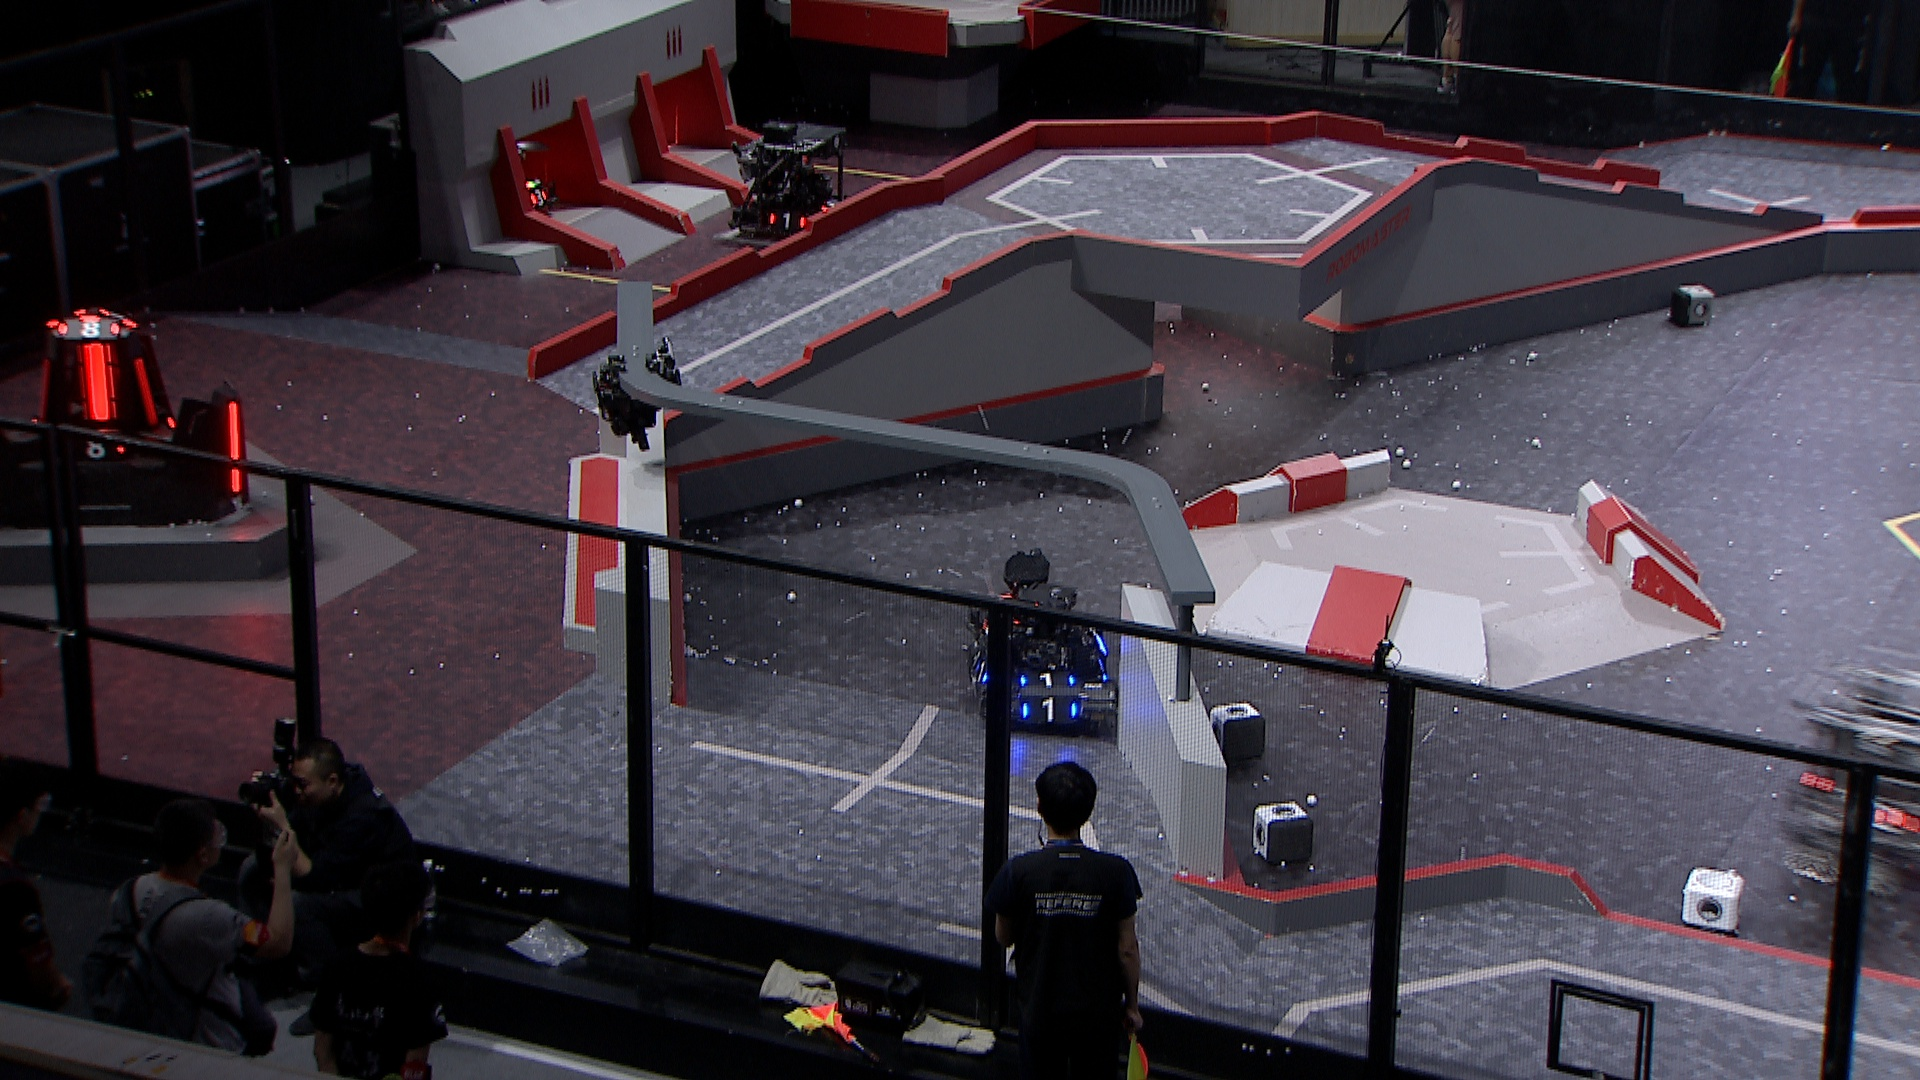armor: (76, 343, 124, 425), (135, 357, 164, 429), (224, 401, 247, 491), (1017, 698, 1083, 727), (1869, 800, 1917, 836), (55, 318, 125, 339), (76, 436, 131, 463), (34, 357, 53, 429), (1017, 670, 1083, 688), (766, 211, 811, 233), (971, 655, 996, 687), (527, 189, 550, 208)
car: (1776, 644, 1920, 898), (961, 584, 1120, 744), (716, 117, 861, 258), (969, 547, 1087, 655), (468, 142, 562, 224)
watcher: (591, 334, 684, 451)
